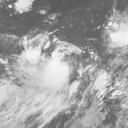cyclone: (26, 38, 79, 94)
